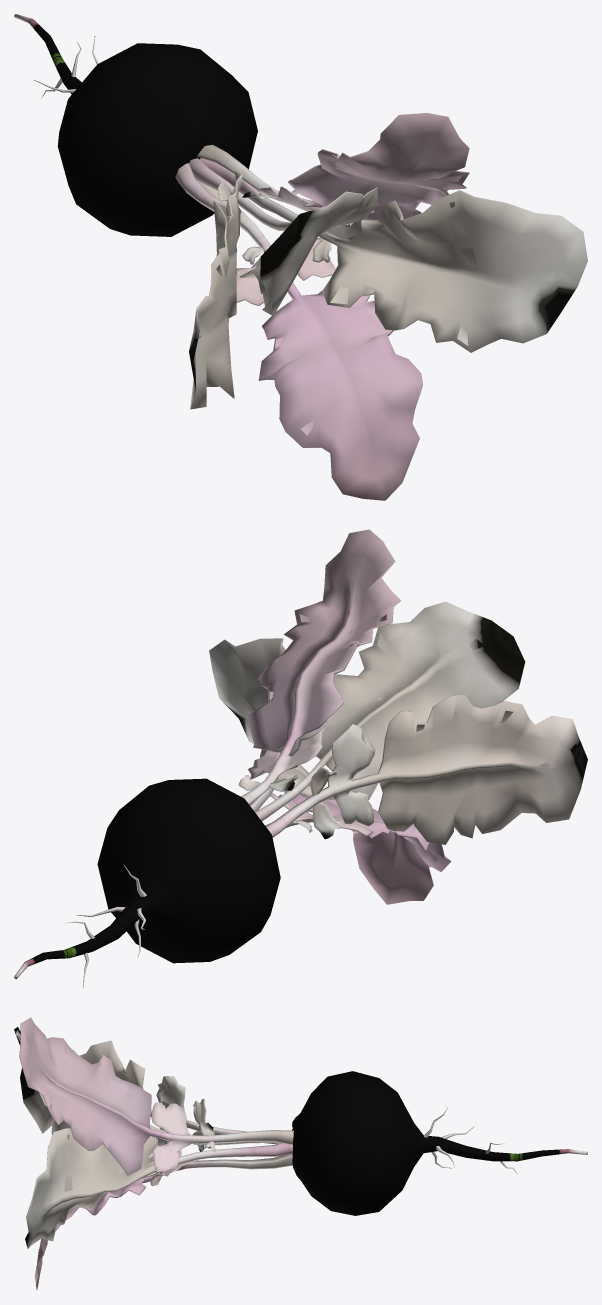
File: turnip.fbx
The picture shows the model from 3 angles, top to bottom: view 1: azimuth 30°, elevation 25°; view 2: azimuth 150°, elevation 25°; view 3: azimuth 270°, elevation 25°; orthographic projection. The views are drawn at different scales.
Visible parts, largest first — view 1: 10210_Turnip_v1-L2; view 2: 10210_Turnip_v1-L2; view 3: 10210_Turnip_v1-L2.
Boxes of the visible parts, x1=… form: 10210_Turnip_v1-L2: x1=14, y1=14, x2=587, y2=500; 10210_Turnip_v1-L2: x1=14, y1=529, x2=587, y2=987; 10210_Turnip_v1-L2: x1=14, y1=1017, x2=587, y2=1290.
Bounding box in the file's own units: 6869 × 6382 × 11941.
